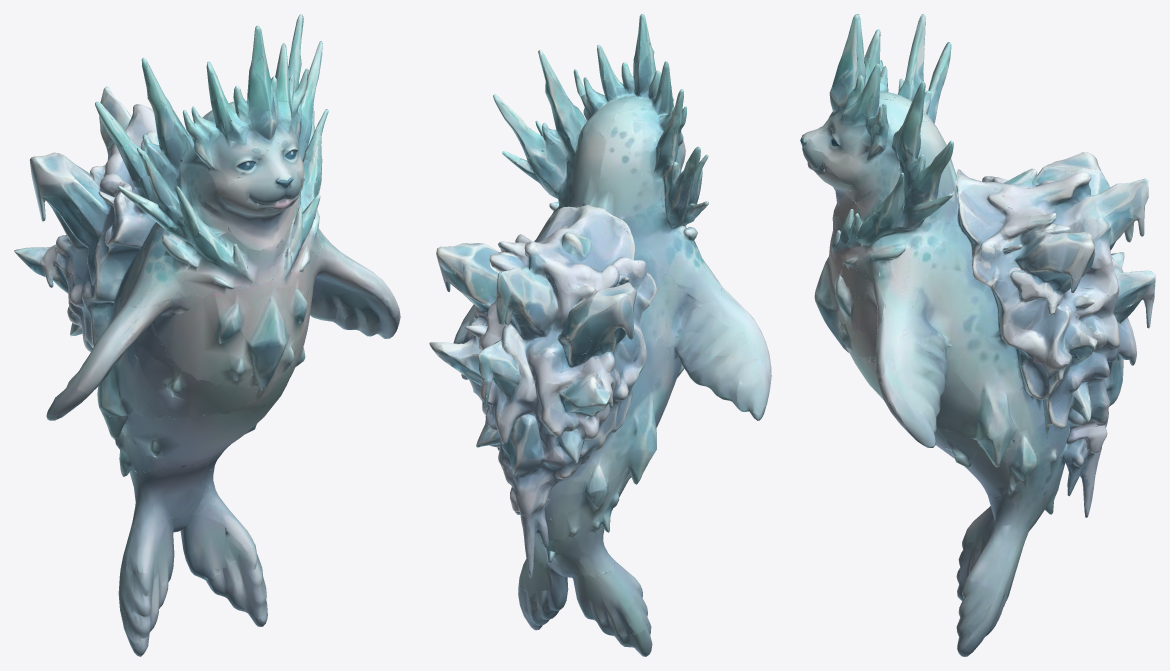
The picture shows the model from 3 angles, left to right: view 1: azimuth 30°, elevation 25°; view 2: azimuth 150°, elevation 25°; view 3: azimuth 270°, elevation 25°; orthographic projection. The views are drawn at different scales.
Parts seen in each view (by area): view 1: Mesh_0; view 2: Mesh_0; view 3: Mesh_0.
Part boxes in pixels (x1,y1,x2,y2): Mesh_0: [14, 14, 400, 656]; Mesh_0: [429, 14, 771, 656]; Mesh_0: [800, 14, 1155, 656].
Size of the model in its own units: 1.03 by 1.9 by 0.9942.
Materials: 1 (1 with a texture image).
